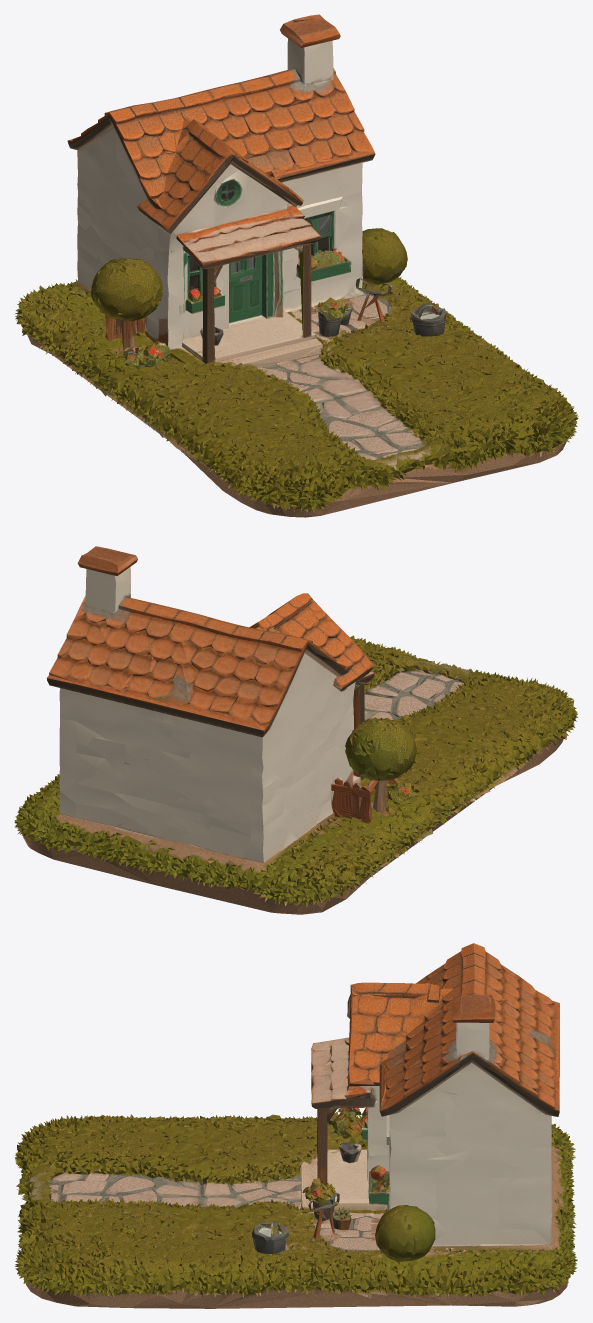
File: a2_joyce_house.glb
3 renders of one model, top to bottom at view 1: azimuth 30°, elevation 25°; view 2: azimuth 150°, elevation 25°; view 3: azimuth 270°, elevation 25°, orthographic.
Bounding box in the file's own units: 1.32 × 1.04 × 1.9.
Materials: 1 (1 with a texture image).
